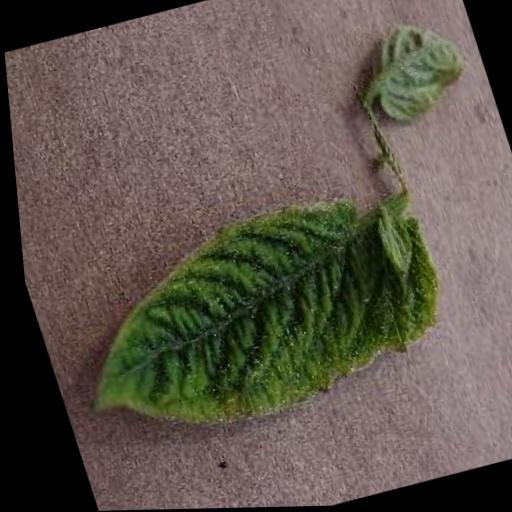Yellow Leaf Curl Virus: (40, 175, 463, 453)
